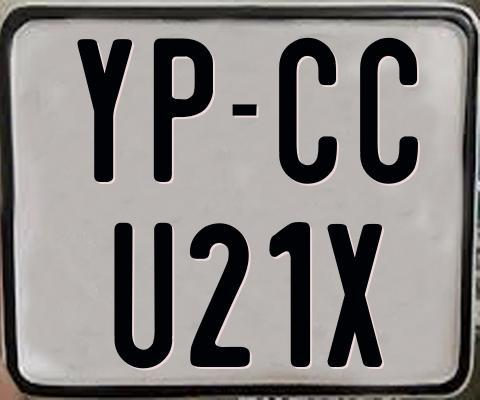1: (268, 222, 310, 371)
2: (188, 222, 250, 368)
C: (278, 36, 339, 186), (358, 36, 419, 186)
P: (153, 38, 217, 188)
U: (114, 222, 175, 372)
X: (326, 223, 382, 368)
Y: (76, 37, 136, 184)
